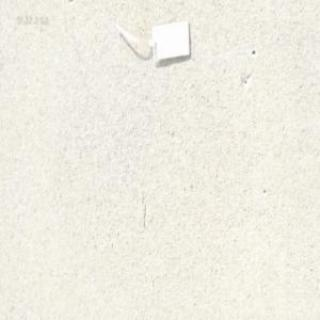LuggageTagtrack_idkeyframe: (112, 17, 191, 66)
